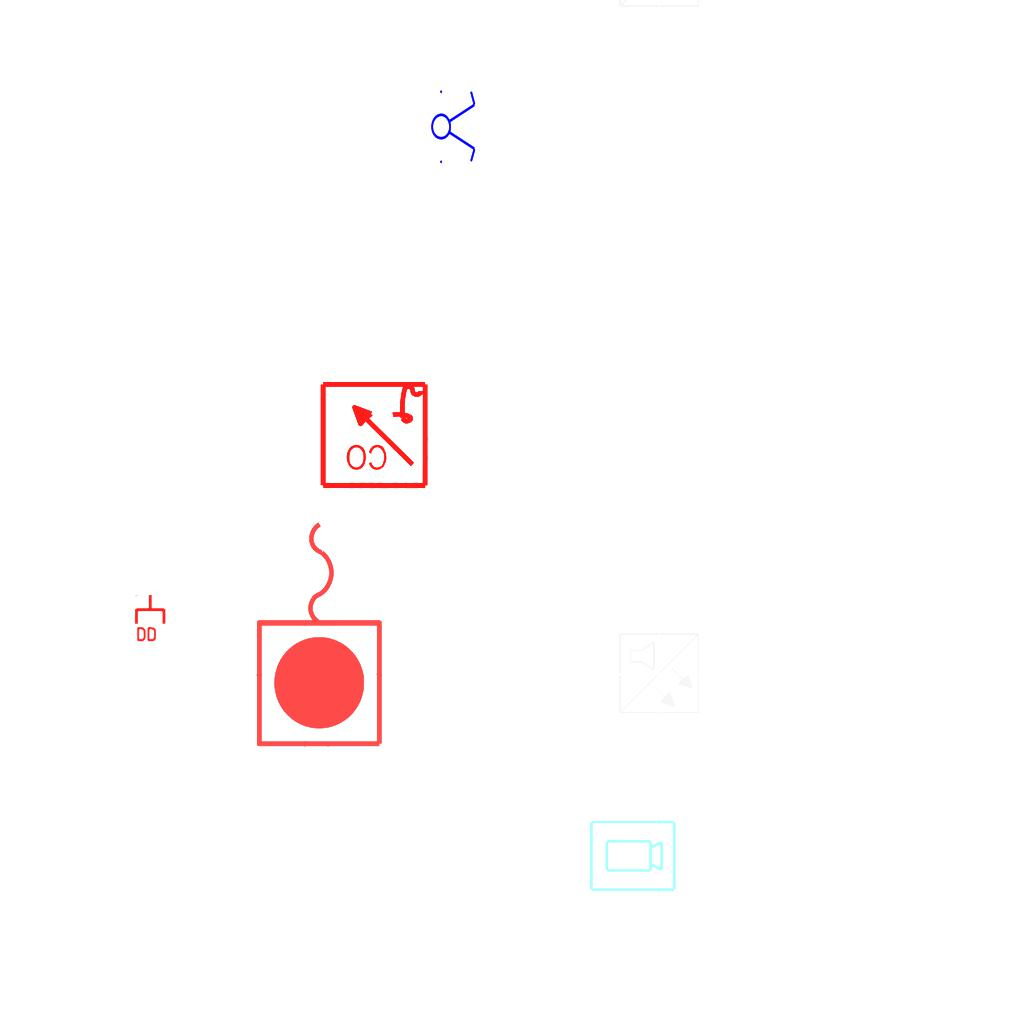Datenanschluss_zweifach: (134, 593, 168, 644)
KFO_Kamera_mit_Festobjektiv: (587, 818, 678, 895)
ROA_Rauchmelder_optisch_mit_Signalgeber_(Sockelsirene): (317, 377, 430, 490)
Serienschalter: (430, 84, 478, 168)
Zugtaster: (249, 511, 393, 755)
